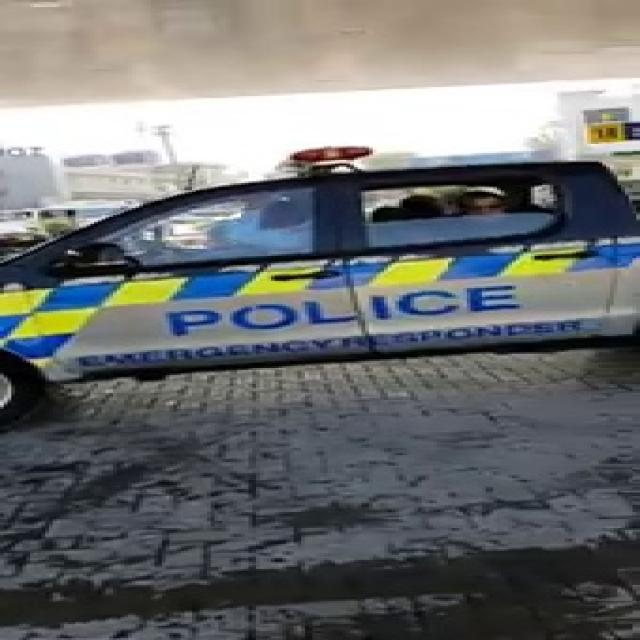police: (5, 172, 640, 404)
